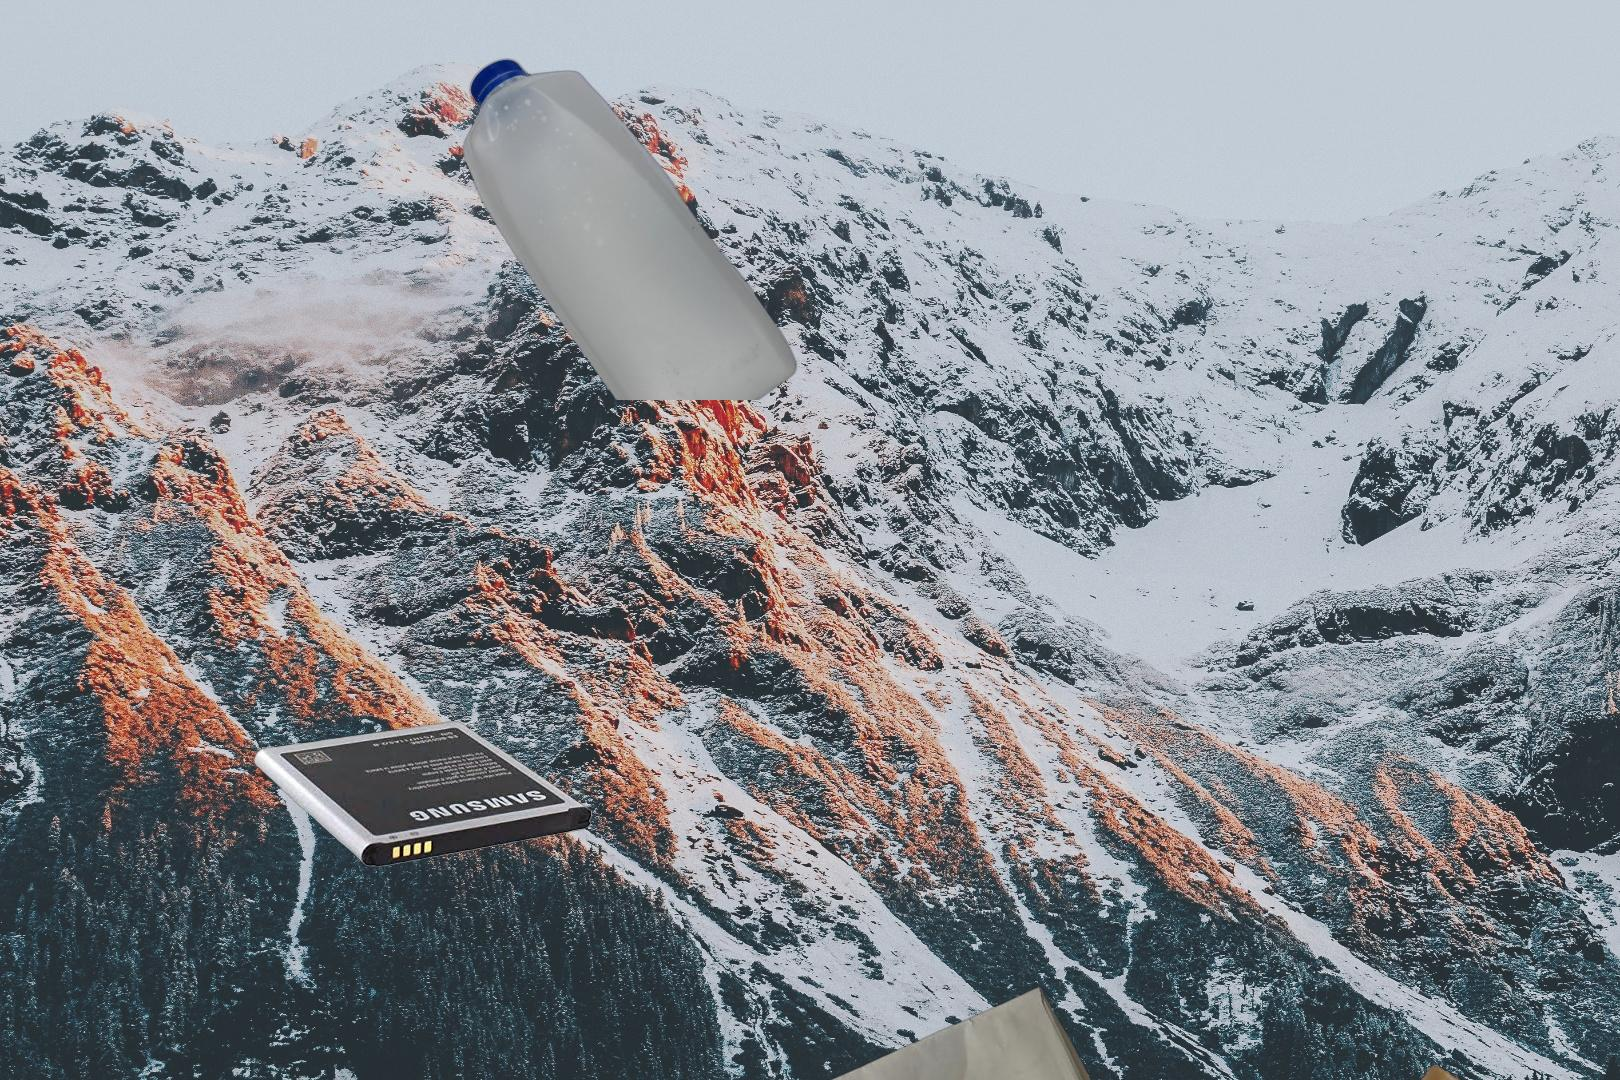battery: (252, 720, 592, 868)
paper: (653, 985, 1132, 1080)
paper-bag: (1314, 1062, 1524, 1080)
plastic-bottles: (459, 55, 800, 400)
